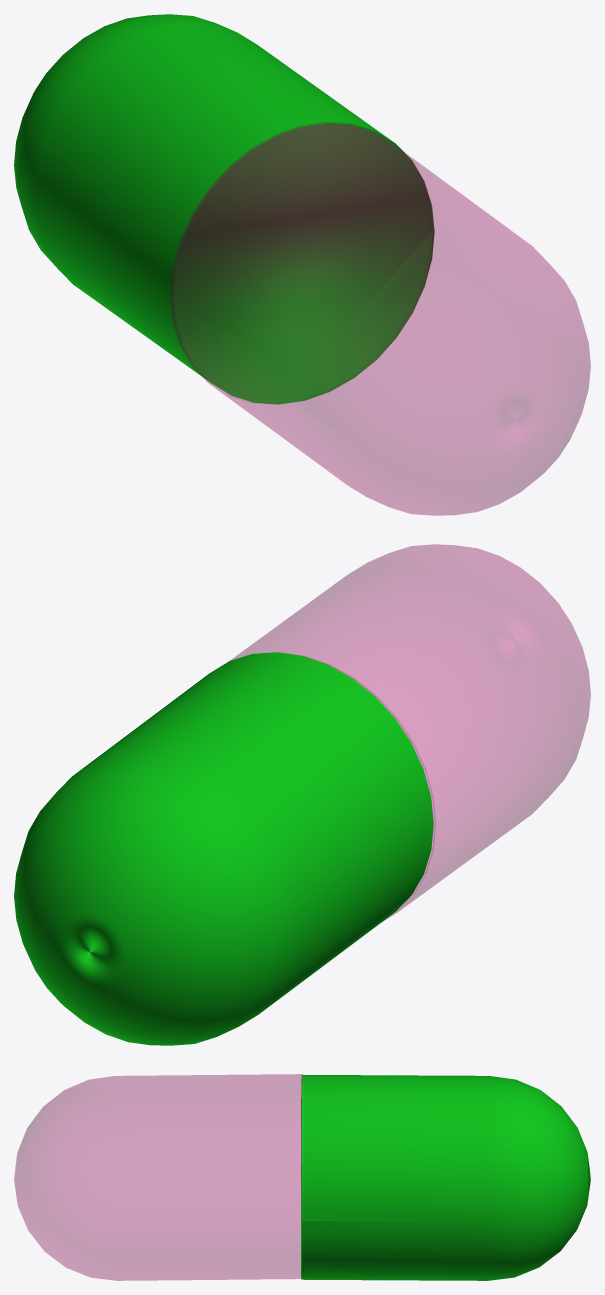
File: caplsule.fbx
3 renders of one model, top to bottom at view 1: azimuth 30°, elevation 25°; view 2: azimuth 150°, elevation 25°; view 3: azimuth 270°, elevation 25°, orthographic. The views are drawn at different scales.
Visible parts, largest first — view 1: Cylinder.001, Cylinder.002; view 2: Cylinder.002, Cylinder.001; view 3: Cylinder.002, Cylinder.001.
Boxes of the visible parts, left/top/right/bottom form: Cylinder.001: left=170, top=123, right=590, bottom=515; Cylinder.002: left=14, top=14, right=434, bottom=404; Cylinder.002: left=14, top=652, right=433, bottom=1045; Cylinder.001: left=230, top=544, right=590, bottom=920; Cylinder.002: left=301, top=1074, right=590, bottom=1280; Cylinder.001: left=14, top=1074, right=302, bottom=1280.
Bounding box in the file's own units: 202 × 201 × 562.
